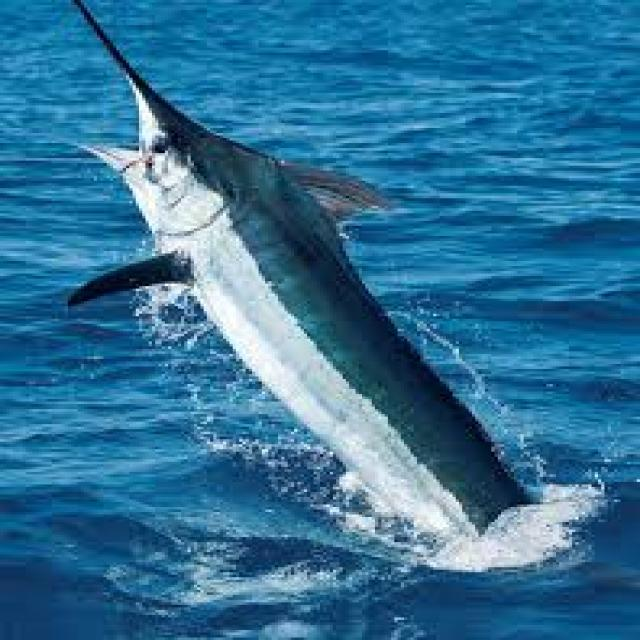Blue Marlin: (52, 2, 533, 544)
